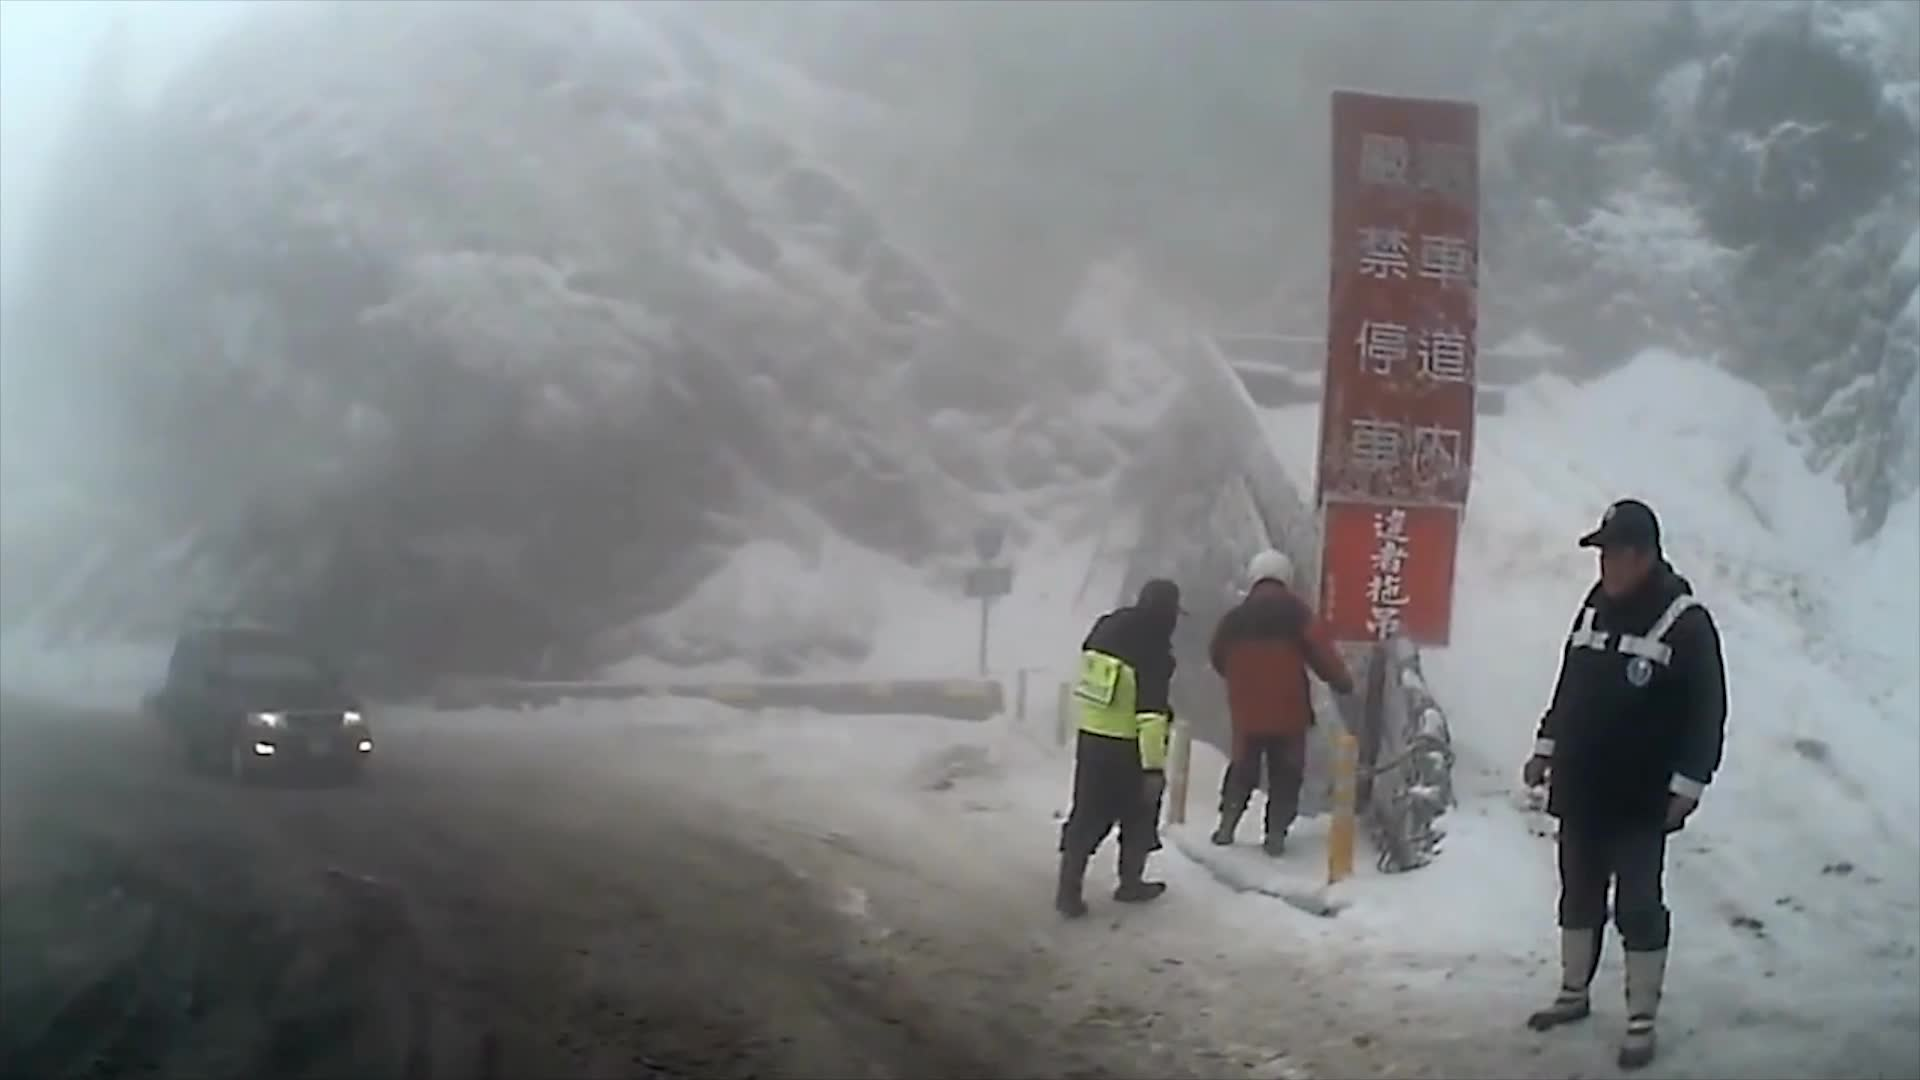pedestrian: (1520, 497, 1733, 1072), (1055, 579, 1186, 918), (1215, 549, 1341, 855)
vehicle: (161, 626, 373, 790)
